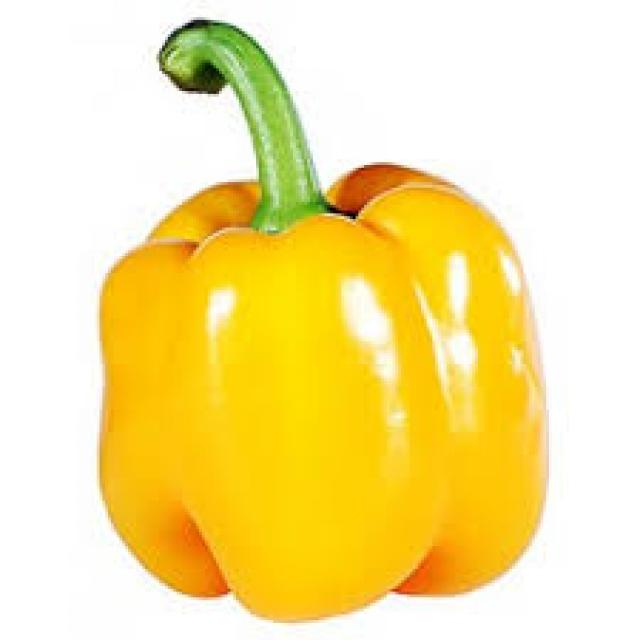organic waste: (94, 17, 543, 614)
